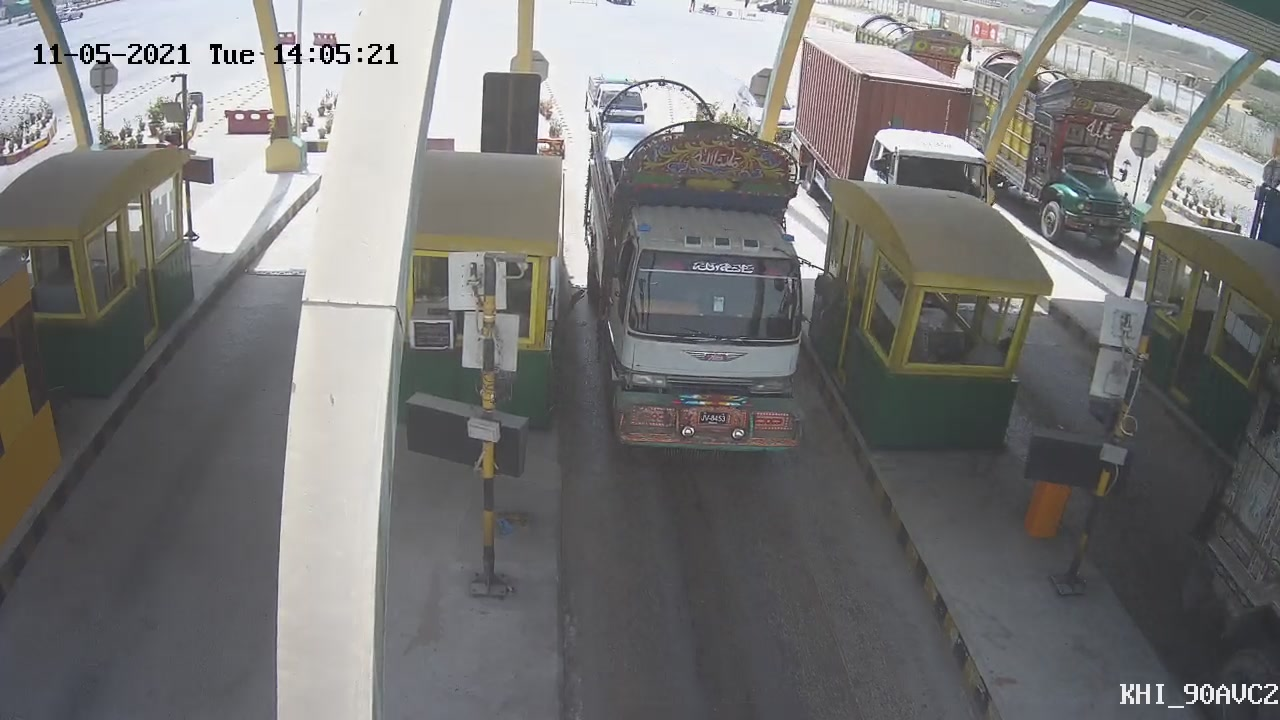F5: (581, 76, 807, 450)
